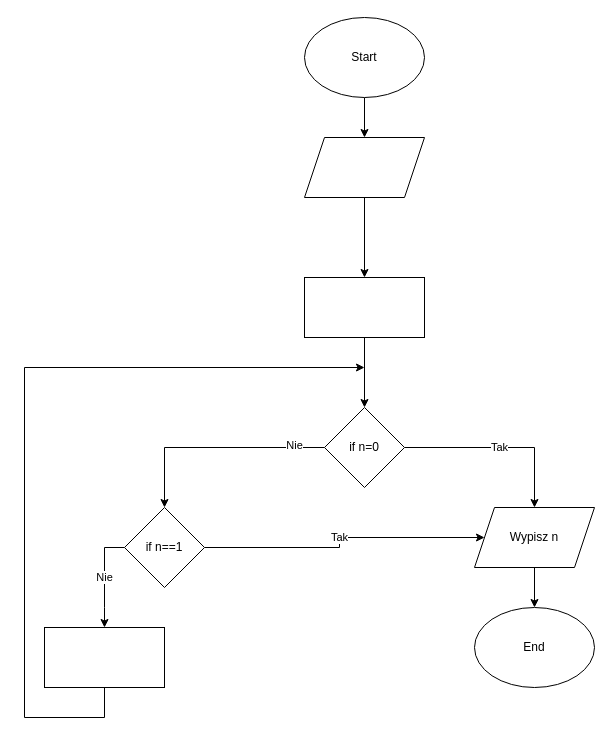
The diagram is 612 pixels wide and 743 high, and some of its shapes have lost their labels. The shapes that lost their labels are listed below. From the top down, each one's centre as x and y in pixels, then its label:
pixel 364 167: Podaj n
pixel 364 307: Wywołaj program funkcja (n)
pixel 104 657: funkcja(n//2)+str(n%2)
